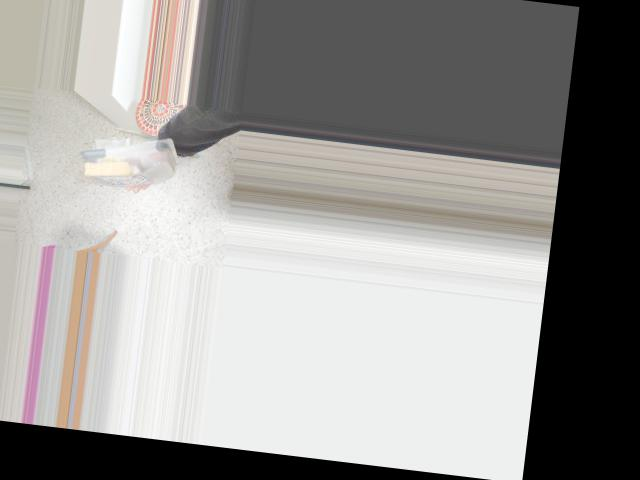cheese: (77, 125, 178, 195)
